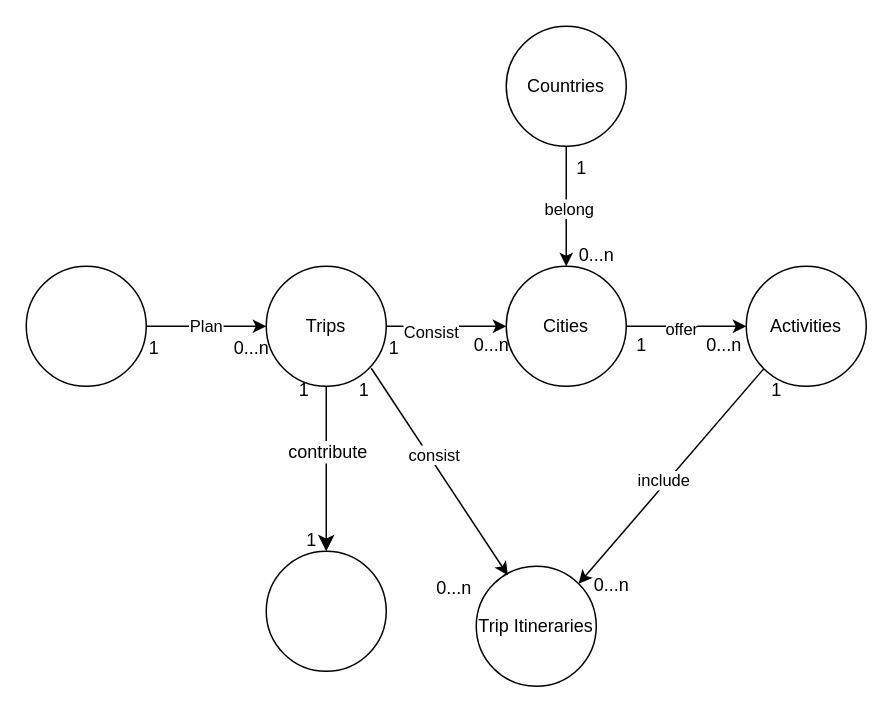
Image size: 893x713. Some labels were removed from this diagram. Each missing label, with the centre of its shape:
Budget: (x=325, y=610)
Users: (x=85, y=325)
